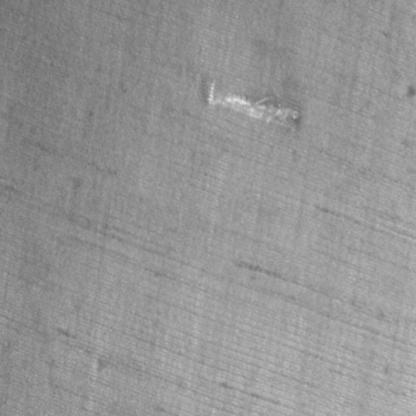hole: (204, 75, 302, 133)
